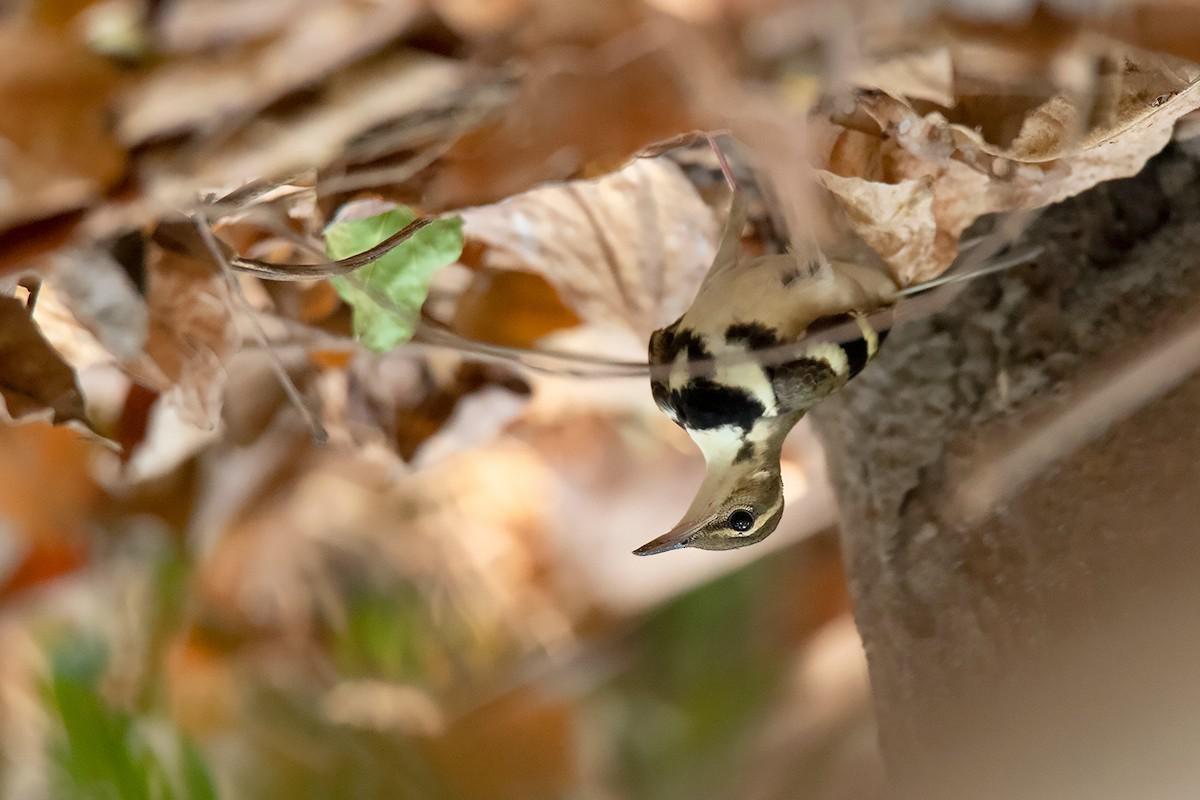wagtail: (584, 110, 926, 602)
